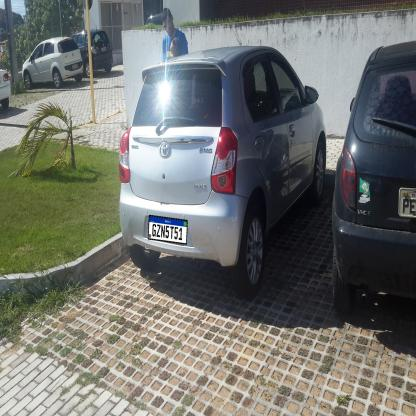PlacaM: (148, 215, 188, 245)
